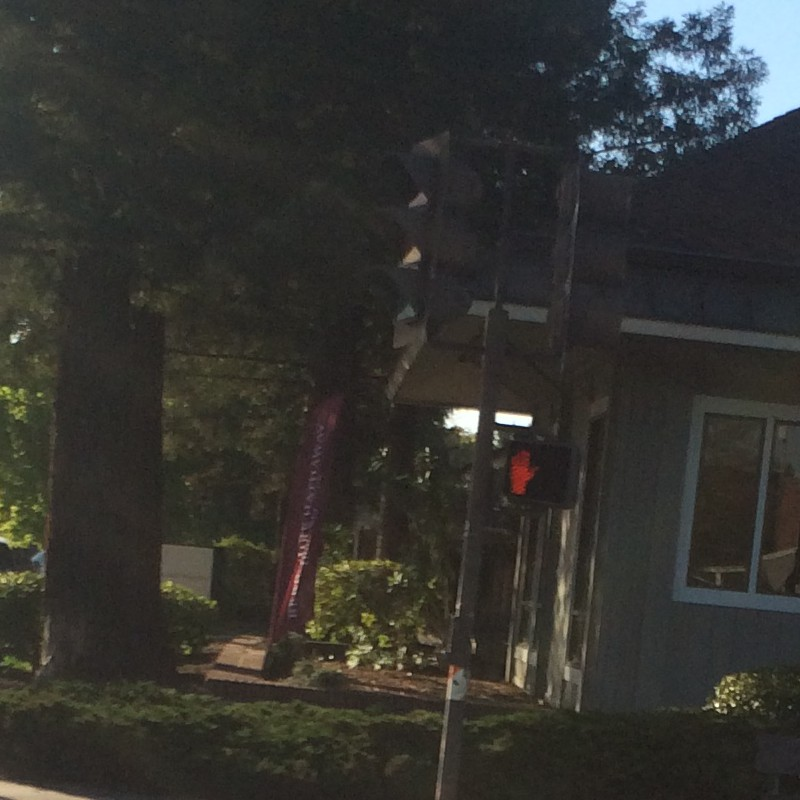stop: (499, 441, 570, 515)
